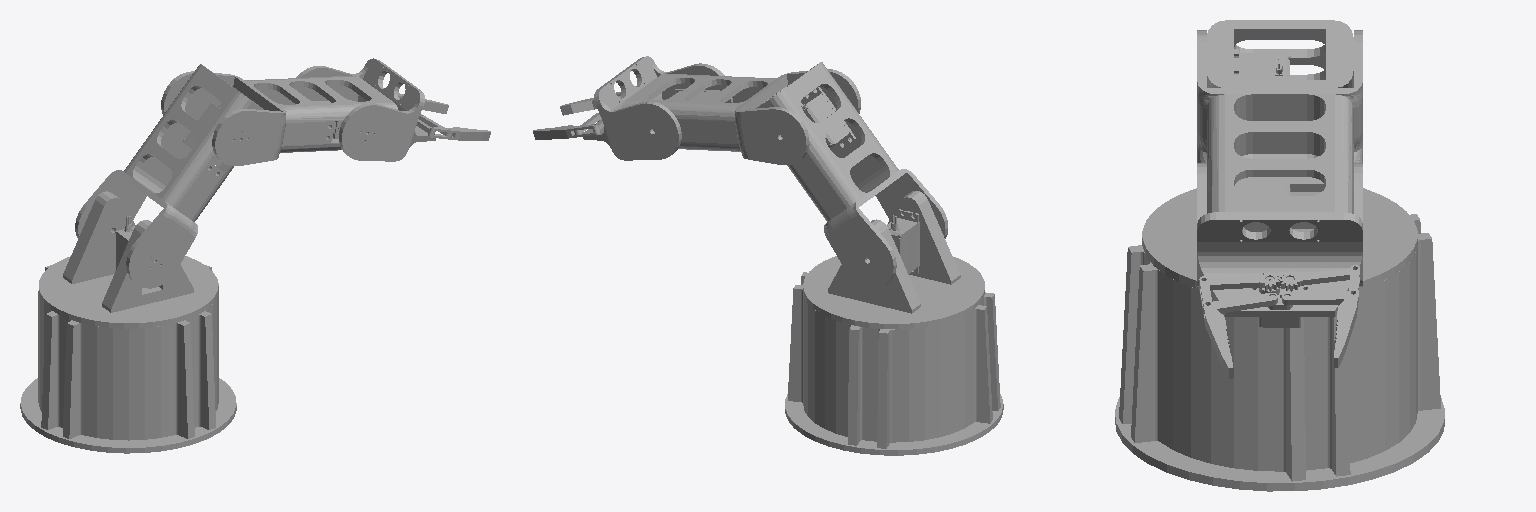
The robot description file, URDF, robot "robot_arm":
<?xml version="1.0" encoding="utf-8"?>
<!-- This URDF was automatically created by SolidWorks to URDF Exporter! Originally created by Stephen Brawner (brawner@gmail.com) 
     Commit Version: 1.6.0-4-g7f85cfe  Build Version: 1.6.7995.38578
     For more information, please see http://wiki.ros.org/sw_urdf_exporter -->
<robot
  name="robot_arm">
  <link
    name="base_link">
    <inertial>
      <origin
        xyz="0.012711 -0.0036619 0.05194"
        rpy="0 0 0" />
      <mass
        value="0.66426" />
      <inertia
        ixx="0.0022252"
        ixy="5.1582E-05"
        ixz="8.0615E-06"
        iyy="0.0020218"
        iyz="3.3399E-05"
        izz="0.0029771" />
    </inertial>
    <visual>
      <origin
        xyz="0 0 0"
        rpy="0 0 0" />
      <geometry>
        <mesh
          filename="package://robot_arm/meshes/base_link.STL" />
      </geometry>
      <material
        name="">
        <color
          rgba="0.69804 0.69804 0.69804 1" />
      </material>
    </visual>
    <collision>
      <origin
        xyz="0 0 0"
        rpy="0 0 0" />
      <geometry>
        <mesh
          filename="package://robot_arm/meshes/base_link.STL" />
      </geometry>
    </collision>
  </link>
  <link
    name="servo1_link">
    <inertial>
      <origin
        xyz="0.0025516 2.6409E-05 0.013925"
        rpy="0 0 0" />
      <mass
        value="0.25507" />
      <inertia
        ixx="0.0003669"
        ixy="5.5941E-13"
        ixz="-3.3366E-13"
        iyy="0.00028286"
        iyz="-8.6975E-06"
        izz="0.00047477" />
    </inertial>
    <visual>
      <origin
        xyz="0 0 0"
        rpy="0 0 0" />
      <geometry>
        <mesh
          filename="package://robot_arm/meshes/servo1_link.STL" />
      </geometry>
      <material
        name="">
        <color
          rgba="0.69804 0.69804 0.69804 1" />
      </material>
    </visual>
    <collision>
      <origin
        xyz="0 0 0"
        rpy="0 0 0" />
      <geometry>
        <mesh
          filename="package://robot_arm/meshes/servo1_link.STL" />
      </geometry>
    </collision>
  </link>
  <joint
    name="servo1_joint"
    type="revolute">
    <origin
      xyz="0.007168 0 0.1125"
      rpy="0 0 0" />
    <parent
      link="base_link" />
    <child
      link="servo1_link" />
    <axis
      xyz="0 0 -1" />
    <limit
      lower="-3.14"
      upper="3.14"
      effort="1.47"
      velocity="6.16" />
  </joint>
  <link
    name="servo2_link">
    <inertial>
      <origin
        xyz="0.055743 0.06332 -0.045271"
        rpy="0 0 0" />
      <mass
        value="0.25548" />
      <inertia
        ixx="0.00051295"
        ixy="-0.00021973"
        ixz="1.2023E-05"
        iyy="0.00046431"
        iyz="1.3317E-05"
        izz="0.00051352" />
    </inertial>
    <visual>
      <origin
        xyz="0 0 0"
        rpy="0 0 0" />
      <geometry>
        <mesh
          filename="package://robot_arm/meshes/servo2_link.STL" />
      </geometry>
      <material
        name="">
        <color
          rgba="0.69804 0.69804 0.69804 1" />
      </material>
    </visual>
    <collision>
      <origin
        xyz="0 0 0"
        rpy="0 0 0" />
      <geometry>
        <mesh
          filename="package://robot_arm/meshes/servo2_link.STL" />
      </geometry>
    </collision>
  </link>
  <joint
    name="servo2_joint"
    type="revolute">
    <origin
      xyz="0.0024206 -0.045 0.04035"
      rpy="1.5708 0 0" />
    <parent
      link="servo1_link" />
    <child
      link="servo2_link" />
    <axis
      xyz="0 0 -1" />
    <limit
      lower="-3.14"
      upper="3.14"
      effort="1.47"
      velocity="6.16" />
  </joint>
  <link
    name="servo3_link">
    <inertial>
      <origin
        xyz="0.083018 -0.014989 -0.045271"
        rpy="0 0 0" />
      <mass
        value="0.25548" />
      <inertia
        ixx="0.00028286"
        ixy="8.0793E-05"
        ixz="1.7614E-05"
        iyy="0.00069441"
        iyz="-3.4092E-06"
        izz="0.00051352" />
    </inertial>
    <visual>
      <origin
        xyz="0 0 0"
        rpy="0 0 0" />
      <geometry>
        <mesh
          filename="package://robot_arm/meshes/servo3_link.STL" />
      </geometry>
      <material
        name="">
        <color
          rgba="0.69804 0.69804 0.69804 1" />
      </material>
    </visual>
    <collision>
      <origin
        xyz="0 0 0"
        rpy="0 0 0" />
      <geometry>
        <mesh
          filename="package://robot_arm/meshes/servo3_link.STL" />
      </geometry>
    </collision>
  </link>
  <joint
    name="servo3_joint"
    type="revolute">
    <origin
      xyz="0.08209 0.092539 0"
      rpy="0 0 0" />
    <parent
      link="servo2_link" />
    <child
      link="servo3_link" />
    <axis
      xyz="0 0 -1" />
    <limit
      lower="-3.14"
      upper="3.14"
      effort="1.47"
      velocity="6.16" />
  </joint>
  <link
    name="servo4_link">
    <inertial>
      <origin
        xyz="0.033751 -0.010033 -0.045033"
        rpy="0 0 0" />
      <mass
        value="0.094515" />
      <inertia
        ixx="0.00011605"
        ixy="8.6617E-06"
        ixz="2.4913E-07"
        iyy="0.00014625"
        iyz="-1.2232E-07"
        izz="6.7154E-05" />
    </inertial>
    <visual>
      <origin
        xyz="0 0 0"
        rpy="0 0 0" />
      <geometry>
        <mesh
          filename="package://robot_arm/meshes/servo4_link.STL" />
      </geometry>
      <material
        name="">
        <color
          rgba="0.69804 0.69804 0.69804 1" />
      </material>
    </visual>
    <collision>
      <origin
        xyz="0 0 0"
        rpy="0 0 0" />
      <geometry>
        <mesh
          filename="package://robot_arm/meshes/servo4_link.STL" />
      </geometry>
    </collision>
  </link>
  <joint
    name="servo4_joint"
    type="revolute">
    <origin
      xyz="0.12165 -0.022441 0"
      rpy="0 0 0" />
    <parent
      link="servo3_link" />
    <child
      link="servo4_link" />
    <axis
      xyz="0 0 1" />
    <limit
      lower="-3.14"
      upper="3.14"
      effort="0.18"
      velocity="8.73" />
  </joint>
  <link
    name="grip_kanan">
    <inertial>
      <origin
        xyz="0.0284350066160728 -0.0258941414767756 -0.000999999999999945"
        rpy="0 0 0" />
      <mass
        value="0.00598864139515786" />
      <inertia
        ixx="3.89998515612501E-07"
        ixy="-1.74364128269356E-07"
        ixz="2.7594745234769E-21"
        iyy="9.76471801316146E-07"
        iyz="1.22753602902869E-21"
        izz="1.31570141559217E-06" />
    </inertial>
    <visual>
      <origin
        xyz="0 0 0"
        rpy="0 0 0" />
      <geometry>
        <mesh
          filename="package://robot_arm/meshes/grip_kanan.STL" />
      </geometry>
      <material
        name="">
        <color
          rgba="0.698039215686274 0.698039215686274 0.698039215686274 1" />
      </material>
    </visual>
    <collision>
      <origin
        xyz="0 0 0"
        rpy="0 0 0" />
      <geometry>
        <mesh
          filename="package://robot_arm/meshes/grip_kanan.STL" />
      </geometry>
    </collision>
  </link>
  <joint
    name="joint_kanan"
    type="continuous">
    <origin
      xyz="0.061661 -0.013657 -0.041952"
      rpy="-1.5708 0 -0.36096" />
    <parent
      link="servo4_link" />
    <child
      link="grip_kanan" />
    <axis
      xyz="0 0 1" />
    <limit
      lower="-3.14"
      upper="3.14"
      effort="0.18"
      velocity="8.43" />
  </joint>
  <link
    name="end">
    <inertial>
      <origin
        xyz="-0.24033 0.02507 -0.14934"
        rpy="0 0 0" />
      <mass
        value="0" />
      <inertia
        ixx="0.017867"
        ixy="-1.1356E-05"
        ixz="-0.0059868"
        iyy="0.022197"
        iyz="-0.00020631"
        izz="0.0092897" />
    </inertial>
    <visual>
      <origin
        xyz="0 0 0"
        rpy="0 0 0" />
      <geometry>
        <mesh
          filename="package://robot_arm/meshes/end.STL" />
      </geometry>
      <material
        name="">
        <color
          rgba="1 1 1 1" />
      </material>
    </visual>
    <collision>
      <origin
        xyz="0 0 0"
        rpy="0 0 0" />
      <geometry>
        <mesh
          filename="package://robot_arm/meshes/end.STL" />
      </geometry>
    </collision>
  </link>
  <joint
    name="end_kanan"
    type="fixed">
    <origin
      xyz="0.070615 -0.023503 0.003"
      rpy="0 0 0" />
    <parent
      link="grip_kanan" />
    <child
      link="end" />
    <axis
      xyz="0 0 0" />
  </joint>
  <link
    name="grip_kiri">
    <inertial>
      <origin
        xyz="0.021416159677082 0.0247217470210284 -0.00200000000000011"
        rpy="0 0 0" />
      <mass
        value="0.00598864139515786" />
      <inertia
        ixx="3.68105943708231E-07"
        ixy="1.85693367179371E-07"
        ixz="8.33798057453452E-22"
        iyy="9.98364373220417E-07"
        iyz="-7.94093388050907E-23"
        izz="1.31570141559217E-06" />
    </inertial>
    <visual>
      <origin
        xyz="0 0 0"
        rpy="0 0 0" />
      <geometry>
        <mesh
          filename="package://robot_arm/meshes/grip_kiri.STL" />
      </geometry>
      <material
        name="">
        <color
          rgba="0.698039215686274 0.698039215686274 0.698039215686274 1" />
      </material>
    </visual>
    <collision>
      <origin
        xyz="0 0 0"
        rpy="0 0 0" />
      <geometry>
        <mesh
          filename="package://robot_arm/meshes/grip_kiri.STL" />
      </geometry>
    </collision>
  </link>
  <joint
    name="joint_kiri"
    type="revolute">
    <origin
      xyz="0.062473 -0.012895 -0.0505"
      rpy="-1.5708 0 -0.36096" />
    <parent
      link="servo4_link" />
    <child
      link="grip_kiri" />
    <axis
      xyz="0 0 1" />
    <limit
      lower="-3.14"
      upper="3.14"
      effort="0.18"
      velocity="8.43" />
  </joint>
  <link
    name="end_kiri">
    <inertial>
      <origin
        xyz="-0.2333 -0.02636 -0.14934"
        rpy="0 0 0" />
      <mass
        value="0" />
      <inertia
        ixx="0.017868"
        ixy="9.3701E-05"
        ixz="-0.0059901"
        iyy="0.022195"
        iyz="-6.0988E-05"
        izz="0.0092897" />
    </inertial>
    <visual>
      <origin
        xyz="0 0 0"
        rpy="0 0 0" />
      <geometry>
        <mesh
          filename="package://robot_arm/meshes/end_kiri.STL" />
      </geometry>
      <material
        name="">
        <color
          rgba="1 1 1 1" />
      </material>
    </visual>
    <collision>
      <origin
        xyz="0 0 0"
        rpy="0 0 0" />
      <geometry>
        <mesh
          filename="package://robot_arm/meshes/end_kiri.STL" />
      </geometry>
    </collision>
  </link>
  <joint
    name="end_kiri1"
    type="fixed">
    <origin
      xyz="0.062387 0.025032 0.002"
      rpy="0 0 0.024266" />
    <parent
      link="grip_kiri" />
    <child
      link="end_kiri" />
    <axis
      xyz="0 0 0" />
  </joint>
</robot>

--- Facts derived from the render (not from the file) ---
The picture shows the robot from 3 angles, left to right: view 1: azimuth 30°, elevation 25°; view 2: azimuth 150°, elevation 25°; view 3: azimuth 270°, elevation 25°; orthographic projection.
Robot: robot_arm — 9 links, 8 joints (5 revolute, 1 continuous, 2 fixed); root link base_link; default pose: all joints at 0.
Links seen in each view (by area): view 1: base_link, servo2_link, servo1_link, servo3_link, servo4_link, grip_kanan; view 2: base_link, servo2_link, servo1_link, servo3_link, servo4_link, grip_kiri; view 3: base_link, servo3_link, servo4_link, servo2_link, servo1_link, grip_kanan, grip_kiri.
Link boxes in pixels (left/top/right/bottom): base_link: left=20, top=265, right=236, bottom=453; servo2_link: left=75, top=64, right=263, bottom=288; servo1_link: left=39, top=191, right=218, bottom=328; servo3_link: left=161, top=71, right=397, bottom=165; servo4_link: left=296, top=58, right=435, bottom=161; grip_kanan: left=416, top=114, right=490, bottom=140; base_link: left=785, top=272, right=1003, bottom=455; servo2_link: left=756, top=62, right=947, bottom=288; servo1_link: left=803, top=191, right=984, bottom=329; servo3_link: left=621, top=69, right=860, bottom=164; servo4_link: left=583, top=56, right=724, bottom=160; grip_kiri: left=533, top=113, right=603, bottom=139; base_link: left=1115, top=214, right=1444, bottom=491; servo3_link: left=1197, top=30, right=1362, bottom=231; servo4_link: left=1197, top=163, right=1362, bottom=327; servo2_link: left=1197, top=20, right=1362, bottom=162; servo1_link: left=1142, top=188, right=1417, bottom=289; grip_kanan: left=1199, top=271, right=1280, bottom=378; grip_kiri: left=1279, top=265, right=1359, bottom=367.
Bounding box of the posed robot: 0.4225 × 0.1798 × 0.282 m (x, y, z).
7 mesh visuals loaded from 9 distinct referenced files (7 binary STL); not drawn: 2 (reference not matched to a file when rendering).
